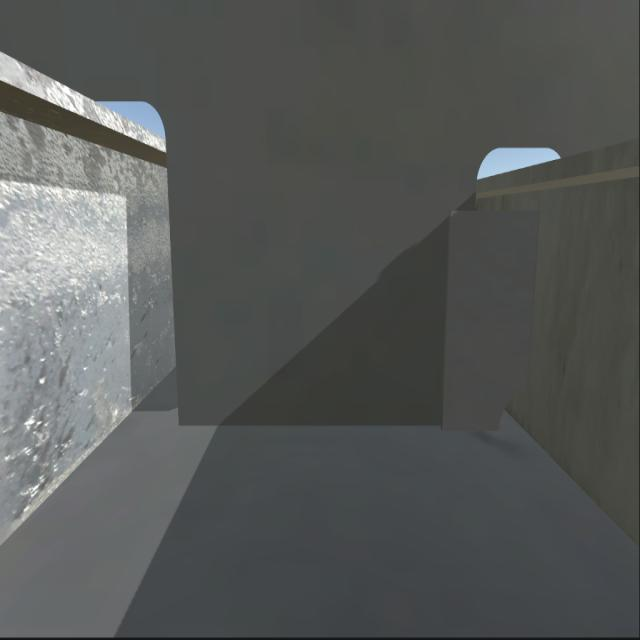fillet_hole: (499, 398, 533, 434)
fillet_yong_jeop_jang: (177, 426, 491, 431)
longi_yong_jeop_jang: (530, 219, 534, 391)
plate_CP01: (447, 215, 539, 444)
